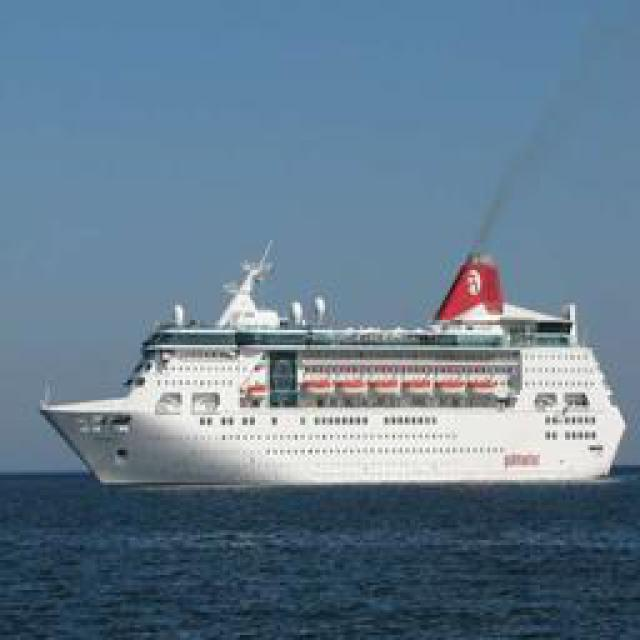Ship: (57, 240, 620, 495)
